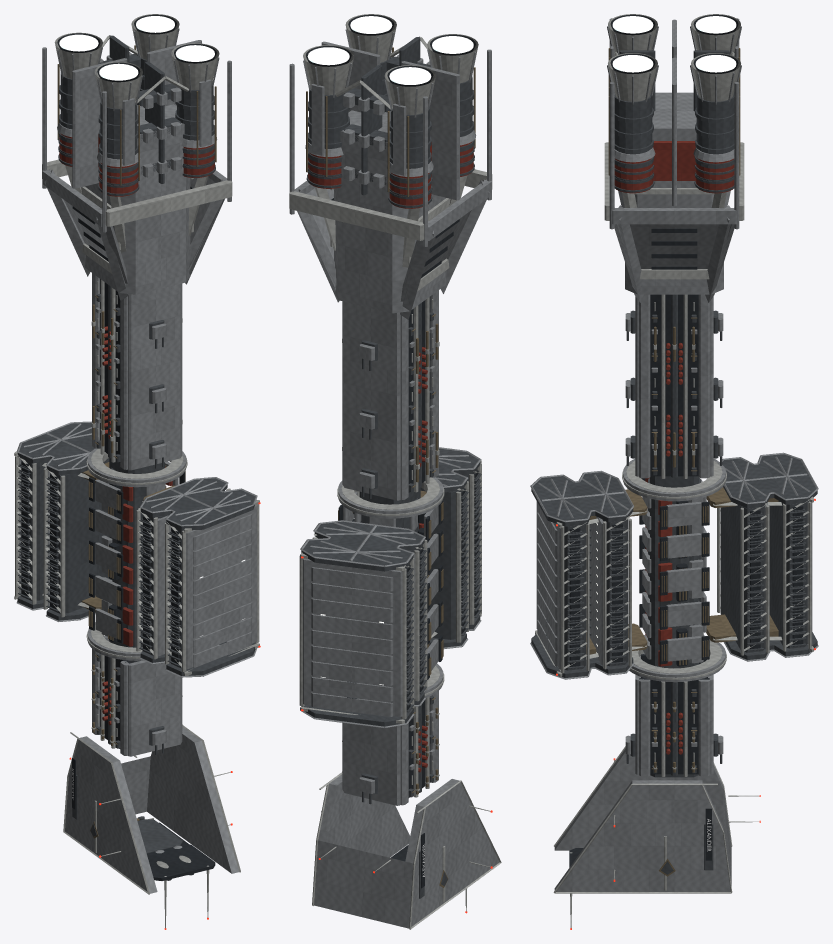
Rendered from omega_alexander.glb.
3 views of the same model, side by side, from view 1: azimuth 30°, elevation 25°; view 2: azimuth 150°, elevation 25°; view 3: azimuth 270°, elevation 25° (orthographic). The views are drawn at different scales.
Parts seen in each view (by area): view 1: Alexander | Book | continuous dorsal armor.002, Alexander | Engineering | reactor, Alexander | Shape | wedge command cheek, Alexander | Shape | wedge command cheek.001, Alexander | Book | continuous dorsal armor, Alexander | Habitat | rectangular bank.002, Alexander | Shape | lobed habitat endplate.001, Alexander | Shape | stern separator flange, Alexander | Shape | radiator armored crown.001, Alexander | Shape | lobed habitat endplate.003, Alexander | Shape | stern transverse frame, Alexander | Shape | lower face machinery well (+62 smaller); view 2: Alexander | Book | continuous dorsal armor.003, Alexander | Engineering | reactor, Alexander | Shape | wedge command cheek, Alexander | Shape | sloping command roof, Alexander | Shape | wedge command cheek.001, Alexander | Shape | radiator armored crown.003, Alexander | Book | continuous dorsal armor.001, Alexander | Shape | lobed habitat endplate.003, Alexander | Shape | stern separator flange, Alexander | Shape | stern transverse frame.001, Alexander | Habitat | rectangular bank, Alexander | Book | broad spine armor.005 (+57 smaller); view 3: Alexander | Shape | wedge command cheek.001, Alexander | Book | equipment recess.003, Alexander | Engineering | reactor, Alexander | Shape | wedge command cheek, Alexander | Habitat | rectangular bank.002, Alexander | Shape | lobed habitat endplate.001, Alexander | Shape | lobed habitat endplate.003, Alexander | Habitat | rectangular bank.003, Alexander | Book | tapered shoulder armor.001, Alexander | Book | equipment recess.001, Alexander | Book | pressure trunk, Alexander | Book | broad spine armor.006 (+49 smaller).
Part boxes in pixels (x1,y1,x2,y2): Alexander | Book | continuous dorsal armor.002: [128, 284, 181, 470]; Alexander | Engineering | reactor: [85, 104, 190, 294]; Alexander | Shape | wedge command cheek: [65, 736, 157, 893]; Alexander | Shape | wedge command cheek.001: [147, 727, 238, 873]; Alexander | Book | continuous dorsal armor: [128, 660, 181, 756]; Alexander | Habitat | rectangular bank.002: [50, 473, 108, 613]; Alexander | Shape | lobed habitat endplate.001: [140, 478, 254, 530]; Alexander | Shape | stern separator flange: [72, 58, 127, 188]; Alexander | Shape | radiator armored crown.001: [186, 505, 257, 668]; Alexander | Shape | lobed habitat endplate.003: [17, 423, 109, 474]; Alexander | Shape | stern transverse frame: [105, 180, 232, 226]; Alexander | Shape | lower face machinery well: [147, 844, 215, 880]; Alexander | Book | continuous dorsal armor.003: [343, 301, 400, 500]; Alexander | Engineering | reactor: [334, 110, 446, 313]; Alexander | Shape | wedge command cheek: [401, 779, 499, 928]; Alexander | Shape | sloping command roof: [322, 842, 405, 926]; Alexander | Shape | wedge command cheek.001: [314, 774, 409, 907]; Alexander | Shape | radiator armored crown.003: [303, 558, 402, 716]; Alexander | Book | continuous dorsal armor.001: [343, 723, 400, 805]; Alexander | Shape | lobed habitat endplate.003: [301, 521, 424, 571]; Alexander | Shape | stern separator flange: [401, 61, 459, 200]; Alexander | Shape | stern transverse frame.001: [289, 191, 424, 240]; Alexander | Habitat | rectangular bank: [359, 488, 463, 639]; Alexander | Book | broad spine armor.005: [400, 315, 408, 499]; Alexander | Shape | wedge command cheek.001: [554, 780, 730, 891]; Alexander | Book | equipment recess.003: [650, 294, 698, 476]; Alexander | Engineering | reactor: [625, 92, 723, 294]; Alexander | Shape | wedge command cheek: [554, 748, 731, 850]; Alexander | Habitat | rectangular bank.002: [720, 504, 764, 652]; Alexander | Shape | lobed habitat endplate.001: [531, 472, 633, 526]; Alexander | Shape | lobed habitat endplate.003: [722, 454, 817, 508]; Alexander | Habitat | rectangular bank.003: [769, 501, 807, 648]; Alexander | Book | tapered shoulder armor.001: [630, 224, 718, 268]; Alexander | Book | equipment recess.001: [639, 678, 709, 774]; Alexander | Book | pressure trunk: [650, 476, 698, 777]; Alexander | Book | broad spine armor.006: [639, 294, 650, 478].
Size of the model in its own units: 6.44 by 37.85 by 11.31.
10 materials, 6 textured.
